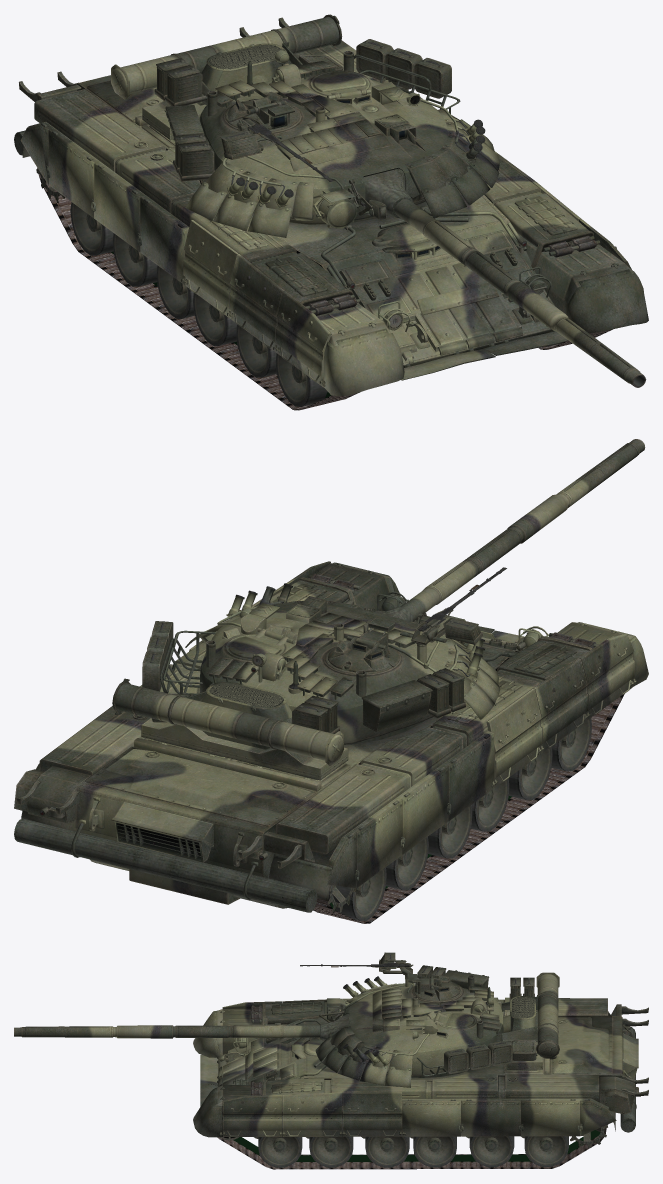
The model's file is t80u_javanilga.glb.
3 renders of one model, top to bottom at view 1: azimuth 30°, elevation 25°; view 2: azimuth 150°, elevation 25°; view 3: azimuth 270°, elevation 25°, orthographic. The views are drawn at different scales.
Visible parts, largest first — view 1: T-80U_Main_2, Object_48, Object_44, Plane01_7, Object_18, Object_26, Object_22, Object_28, Object_20, Object_24, Object_52, Object_34 (+2 smaller); view 2: T-80U_Main_2, Object_48, Object_44, Plane01_7, Object_28, Object_24, Object_20, Object_26, Object_18, Object_22, Object_52, Object_34 (+1 smaller); view 3: T-80U_Main_2, Object_48, Object_44, Plane01_7, Object_22, Object_26, Object_20, Object_18, Object_24, Object_28, Object_8, Object_52 (+2 smaller).
Boxes of the visible parts, left/top/right/bottom form: T-80U_Main_2: left=14, top=17, right=648, bottom=396; Object_48: left=111, top=14, right=499, bottom=237; Object_44: left=362, top=168, right=646, bottom=387; Plane01_7: left=37, top=168, right=612, bottom=410; Object_18: left=275, top=342, right=562, bottom=406; Object_26: left=112, top=233, right=157, bottom=286; Object_22: left=193, top=293, right=236, bottom=345; Object_28: left=70, top=202, right=113, bottom=255; Object_20: left=236, top=324, right=276, bottom=377; Object_24: left=156, top=265, right=194, bottom=318; Object_52: left=210, top=44, right=282, bottom=68; Object_34: left=219, top=120, right=270, bottom=159; T-80U_Main_2: left=14, top=561, right=648, bottom=912; Object_48: left=112, top=583, right=500, bottom=780; Object_44: left=368, top=439, right=645, bottom=623; Plane01_7: left=313, top=694, right=624, bottom=923; Object_28: left=328, top=867, right=386, bottom=920; Object_24: left=428, top=804, right=472, bottom=858; Object_20: left=508, top=747, right=552, bottom=800; Object_26: left=386, top=836, right=428, bottom=890; Object_18: left=551, top=718, right=591, bottom=771; Object_22: left=471, top=778, right=509, bottom=831; Object_52: left=209, top=683, right=283, bottom=707; Object_34: left=400, top=618, right=482, bottom=645; T-80U_Main_2: left=193, top=997, right=648, bottom=1138; Object_48: left=315, top=965, right=559, bottom=1087; Object_44: left=14, top=1013, right=348, bottom=1040; Plane01_7: left=217, top=1106, right=606, bottom=1169; Object_22: left=365, top=1136, right=409, bottom=1167; Object_26: left=469, top=1136, right=514, bottom=1167; Object_20: left=309, top=1119, right=353, bottom=1167; Object_18: left=258, top=1116, right=302, bottom=1167; Object_24: left=413, top=1136, right=456, bottom=1167; Object_28: left=524, top=1136, right=568, bottom=1166; Object_8: left=233, top=1130, right=600, bottom=1161; Object_52: left=511, top=997, right=534, bottom=1018.
Size of the model in its own units: 4.1 by 2.52 by 10.99.
Materials: 9 (8 with a texture image).
